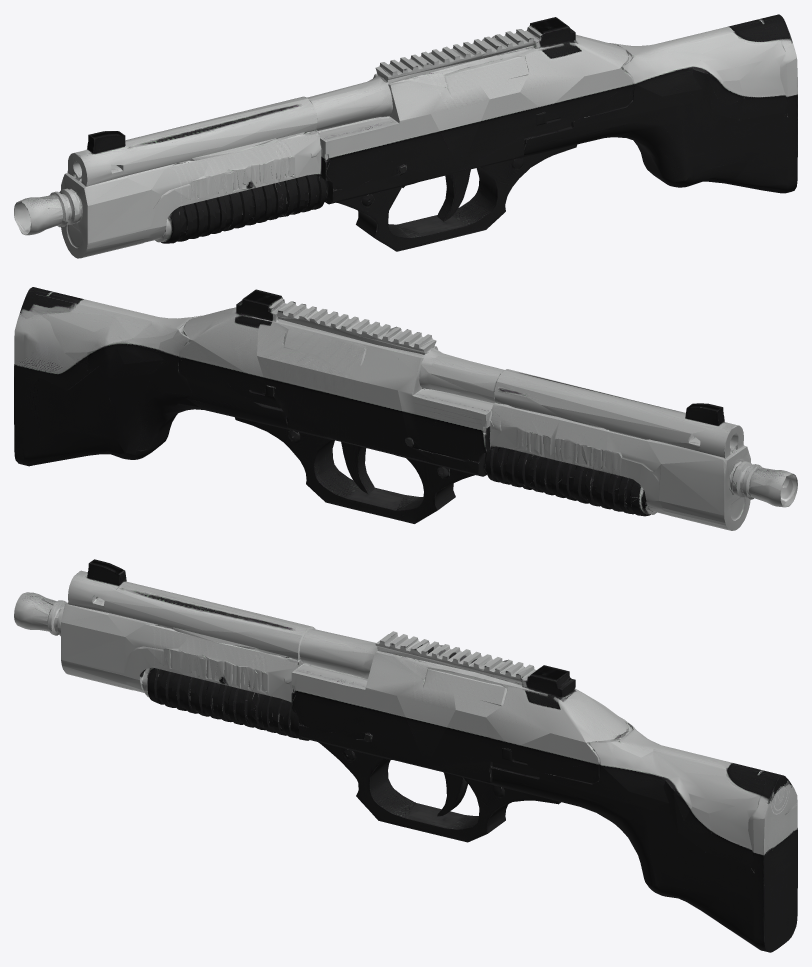
The picture shows the model from 3 angles, top to bottom: view 1: azimuth 30°, elevation 25°; view 2: azimuth 150°, elevation 25°; view 3: azimuth 330°, elevation 25°; orthographic projection.
Bounding box in the file's own units: 1.9 × 0.5193 × 0.1551.
1 material, 1 textured.
